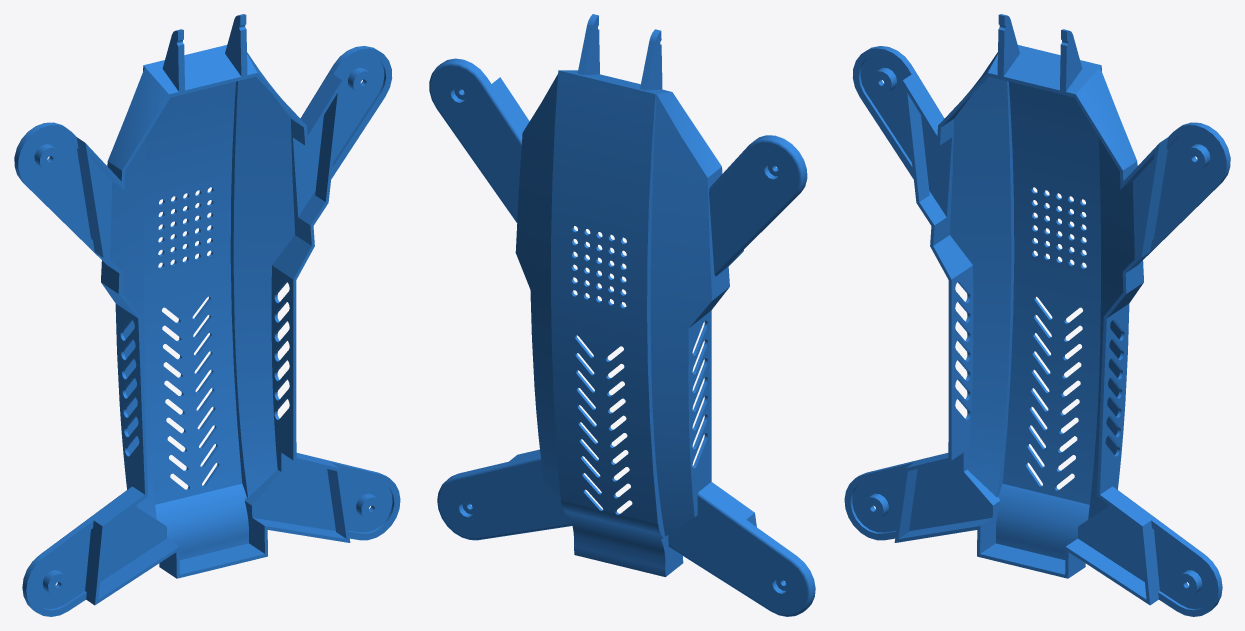
Rendered from Main frame.gltf.
The picture shows the model from 3 angles, left to right: view 1: azimuth 30°, elevation 25°; view 2: azimuth 150°, elevation 25°; view 3: azimuth 330°, elevation 25°; orthographic projection.
Parts seen in each view (by area): view 1: Solid1; view 2: Solid1; view 3: Solid1.
Part boxes in pixels (left/top/right/bottom): Solid1: left=14, top=14, right=400, bottom=616; Solid1: left=429, top=14, right=815, bottom=616; Solid1: left=844, top=14, right=1230, bottom=616.
Size of the model in its own units: 12.3 by 17.39 by 2.2.
